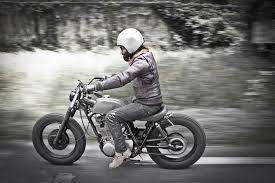motorcycle: (32, 73, 211, 171)
